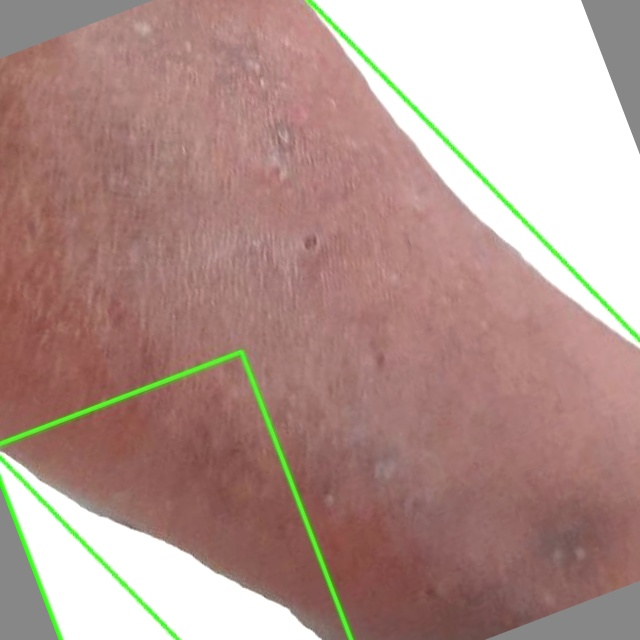Contact Dermatitis: (0, 0, 639, 639), (0, 353, 349, 639)
